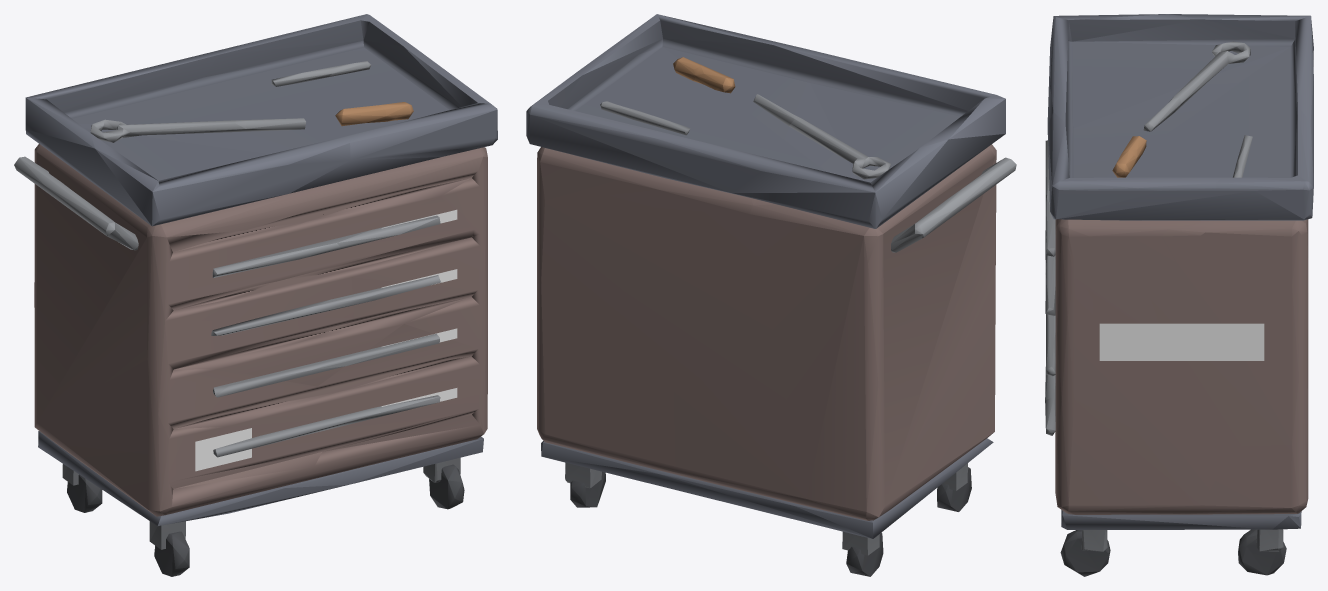
File: servante.glb
3 views of the same model, side by side, from view 1: azimuth 30°, elevation 25°; view 2: azimuth 150°, elevation 25°; view 3: azimuth 270°, elevation 25° (orthographic).
Parts seen in each view (by area): view 1: servante, servante_decal; view 2: servante; view 3: servante, servante_decal.
Part boxes in pixels (left/top/right/bottom): servante: left=14, top=14, right=497, bottom=576; servante_decal: left=195, top=209, right=457, bottom=471; servante: left=526, top=14, right=1016, bottom=576; servante: left=1045, top=14, right=1313, bottom=576; servante_decal: left=1099, top=323, right=1264, bottom=360.
Bounding box in the file's own units: 0.7959 × 0.8228 × 0.4891.
